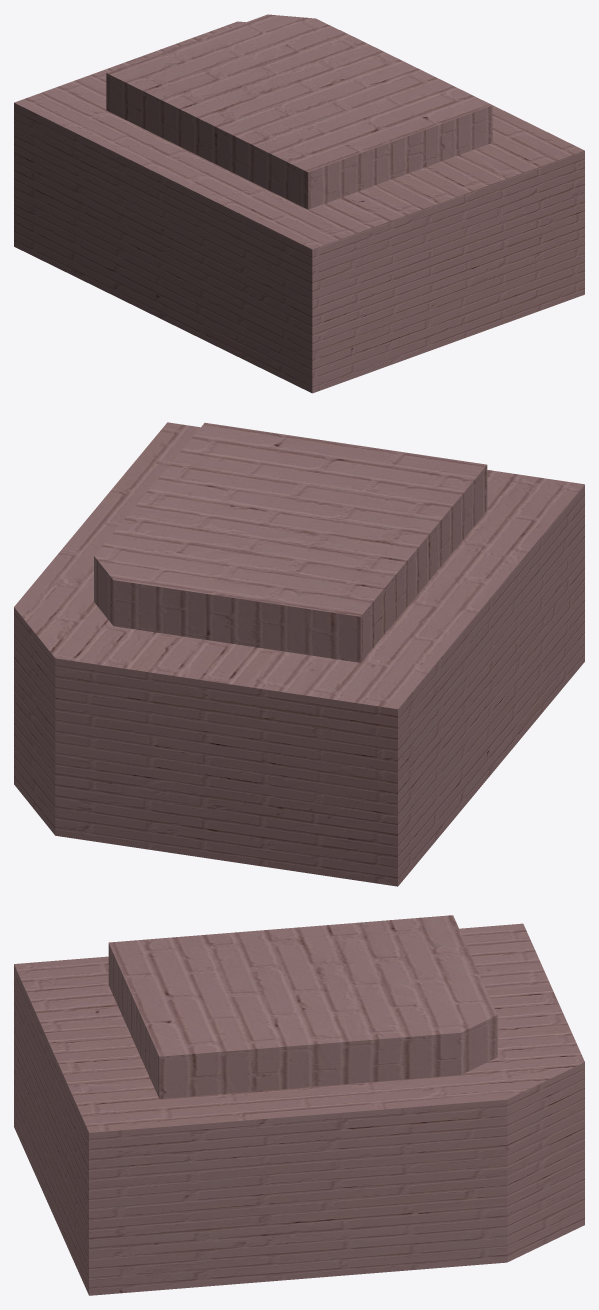
File: MAMBA.gltf
3 renders of one model, top to bottom at view 1: azimuth 30°, elevation 25°; view 2: azimuth 150°, elevation 25°; view 3: azimuth 270°, elevation 25°, orthographic. The views are drawn at different scales.
Parts seen in each view (by area): view 1: MAMBA; view 2: MAMBA; view 3: MAMBA.
Part boxes in pixels (box(x1,y1,x2,y2)): MAMBA: box(14, 14, 584, 393); MAMBA: box(14, 422, 584, 886); MAMBA: box(14, 915, 584, 1295).
Bounding box in the file's own units: 1.48 × 0.6746 × 1.7.
Materials: 1 (1 with a texture image).
